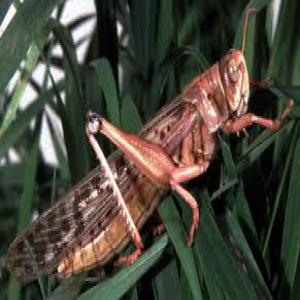locust: (11, 36, 264, 294)
